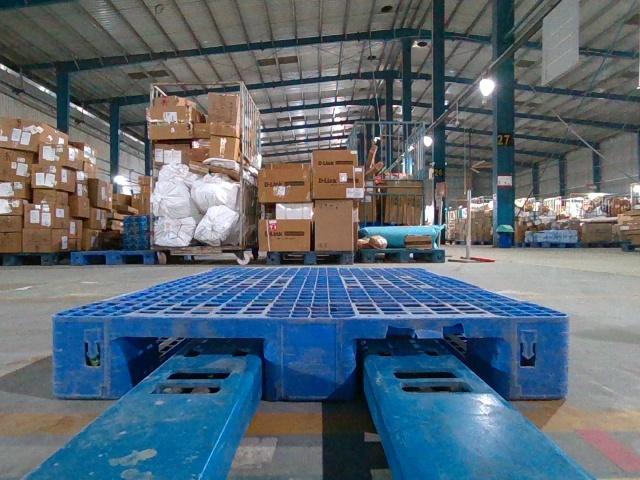block: (265, 317, 359, 403), (55, 313, 121, 400), (505, 313, 569, 400)
front: (54, 315, 568, 398)
hole pallet: (345, 334, 507, 408), (106, 333, 270, 405)
